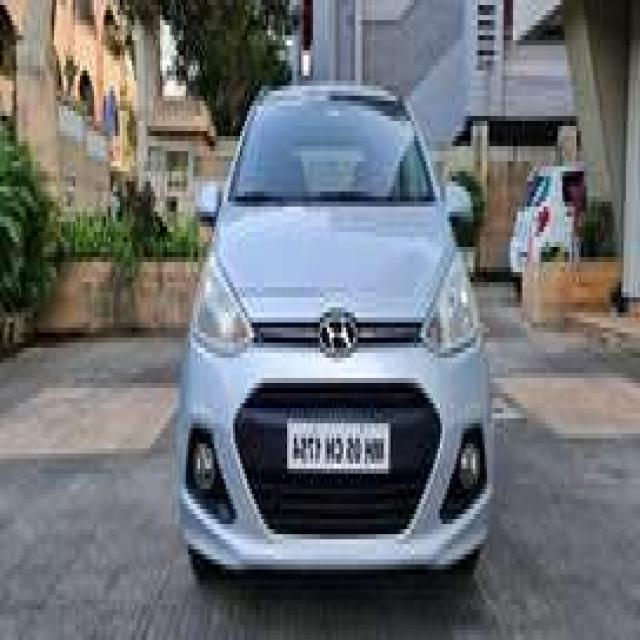license_plate: (282, 416, 392, 481)
